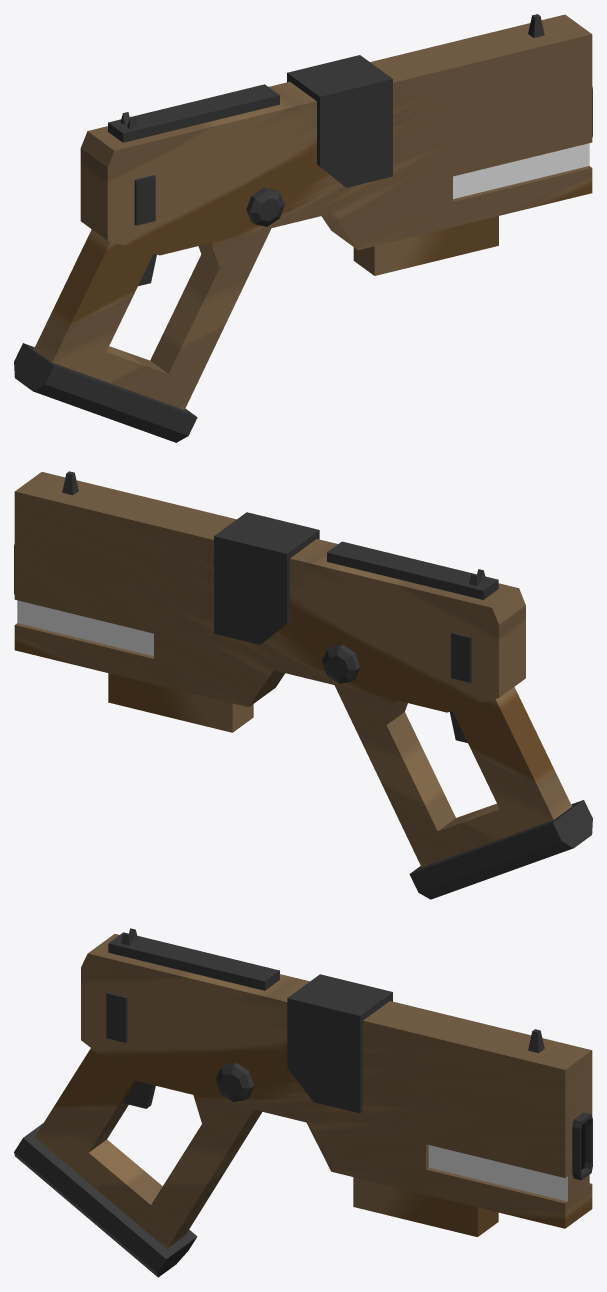
The model's file is Handgun_B_V3.FBX.
3 renders of one model, top to bottom at view 1: azimuth 30°, elevation 25°; view 2: azimuth 150°, elevation 25°; view 3: azimuth 330°, elevation 25°, orthographic.
Parts seen in each view (by area): view 1: Handgun_B_V3, Magazine; view 2: Handgun_B_V3, Magazine; view 3: Handgun_B_V3, Magazine.
Part boxes in pixels (x1,y1,x2,y2): Handgun_B_V3: [14, 14, 592, 442]; Magazine: [353, 216, 498, 275]; Handgun_B_V3: [14, 471, 592, 899]; Magazine: [108, 673, 253, 732]; Handgun_B_V3: [14, 928, 592, 1277]; Magazine: [353, 1177, 498, 1236].
Size of the model in its own units: 133 by 74.83 by 15.86.
